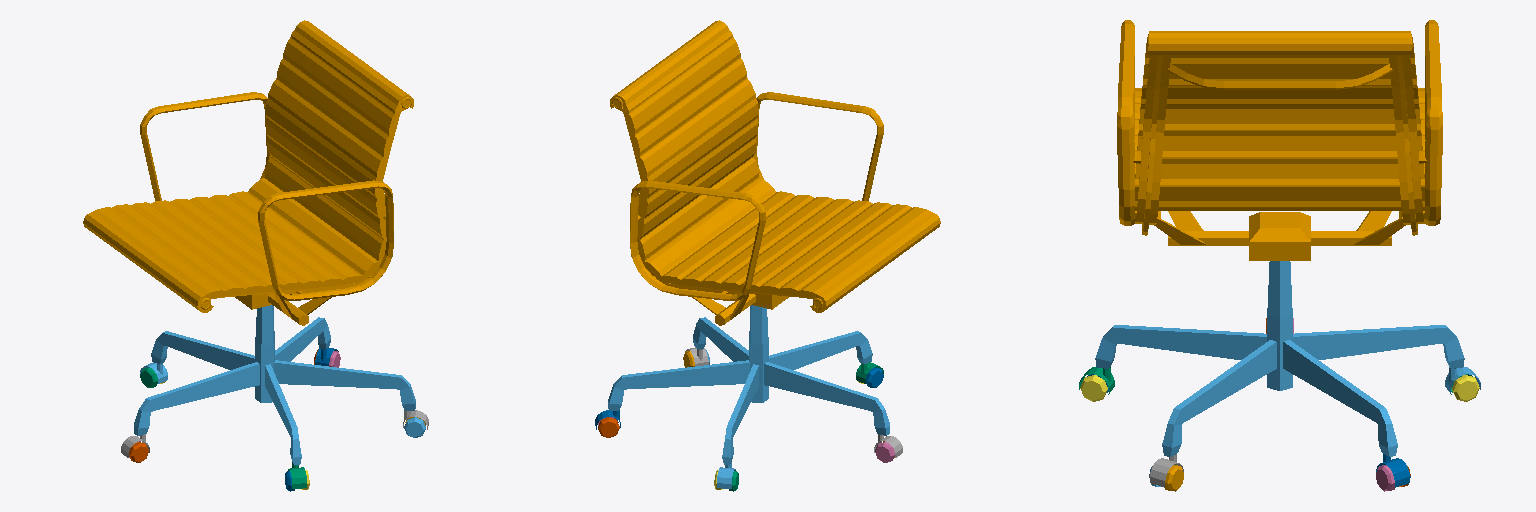
The robot description file, URDF, robot "partnet_a7d178cd0dc051f25fceaa39a8353bde":
<?xml version="1.0" encoding="utf-8"?>
<robot name="partnet_a7d178cd0dc051f25fceaa39a8353bde">
 <link name="base"/>
 <link name="link_0">
  <visual name="caster_yoke-36">
   <origin xyz="0.5275249136431934 0 -0.19504283052343616"/>
   <geometry>
    <mesh filename="textured_objs/original-30.obj"/>
   </geometry>
  </visual>
  <collision>
   <geometry>
    <mesh filename="cvx_objs/link_0.obj"/>
   </geometry>
  </collision>
 </link>
 <joint name="joint_0" type="continuous">
  <origin xyz="-0.5275249136431934 0 0.19504283052343616"/>
  <axis xyz="0 1 0"/>
  <child link="link_0"/>
  <parent link="link_16"/>
 </joint>
 <link name="link_1">
  <visual name="wheel-37">
   <origin xyz="0.5648793505871499 0.747897 -0.18354651899587884"/>
   <geometry>
    <mesh filename="textured_objs/original-28.obj"/>
   </geometry>
  </visual>
  <collision>
   <geometry>
    <mesh filename="cvx_objs/link_1.obj"/>
   </geometry>
  </collision>
 </link>
 <joint name="joint_1" type="continuous">
  <origin xyz="-0.03735443694395646 -0.747897 -0.011496311527557312"/>
  <axis xyz="0.3090262594571722 0 0.9510535058375572"/>
  <child link="link_1"/>
  <parent link="link_0"/>
 </joint>
 <link name="link_2">
  <visual name="wheel-38">
   <origin xyz="0.5648793505871499 0.747897 -0.18354651899587884"/>
   <geometry>
    <mesh filename="textured_objs/original-29.obj"/>
   </geometry>
  </visual>
  <collision>
   <geometry>
    <mesh filename="cvx_objs/link_2.obj"/>
   </geometry>
  </collision>
 </link>
 <joint name="joint_2" type="continuous">
  <origin xyz="-0.03735443694395646 -0.747897 -0.011496311527557312"/>
  <axis xyz="0.3090262594571722 0 0.9510535058375572"/>
  <child link="link_2"/>
  <parent link="link_0"/>
 </joint>
 <link name="link_3">
  <visual name="caster_yoke-33">
   <origin xyz="0.32790481014044826 0 0.41932196992926624"/>
   <geometry>
    <mesh filename="textured_objs/original-24.obj"/>
   </geometry>
  </visual>
  <collision>
   <geometry>
    <mesh filename="cvx_objs/link_3.obj"/>
   </geometry>
  </collision>
 </link>
 <joint name="joint_3" type="continuous">
  <origin xyz="-0.32790481014044826 0 -0.41932196992926624"/>
  <axis xyz="0 1 0"/>
  <child link="link_3"/>
  <parent link="link_16"/>
 </joint>
 <link name="link_4">
  <visual name="wheel-34">
   <origin xyz="0.33148533227517596 0.747897 0.45624220529990833"/>
   <geometry>
    <mesh filename="textured_objs/original-22.obj"/>
   </geometry>
  </visual>
  <collision>
   <geometry>
    <mesh filename="cvx_objs/link_4.obj"/>
   </geometry>
  </collision>
 </link>
 <joint name="joint_4" type="continuous">
  <origin xyz="-0.003580522134727704 -0.747897 -0.036920235370642096"/>
  <axis xyz="0.8090119625767526 0 -0.5877921779061978"/>
  <child link="link_4"/>
  <parent link="link_3"/>
 </joint>
 <link name="link_5">
  <visual name="wheel-35">
   <origin xyz="0.33148533227517596 0.747897 0.45624220529990833"/>
   <geometry>
    <mesh filename="textured_objs/original-23.obj"/>
   </geometry>
  </visual>
  <collision>
   <geometry>
    <mesh filename="cvx_objs/link_5.obj"/>
   </geometry>
  </collision>
 </link>
 <joint name="joint_5" type="continuous">
  <origin xyz="-0.003580522134727704 -0.747897 -0.036920235370642096"/>
  <axis xyz="0.8090119625767526 0 -0.5877921779061978"/>
  <child link="link_5"/>
  <parent link="link_3"/>
 </joint>
 <link name="link_6">
  <visual name="caster_yoke-30">
   <origin xyz="-0.31807681014044825 0 0.41932096992926626"/>
   <geometry>
    <mesh filename="textured_objs/original-18.obj"/>
   </geometry>
  </visual>
  <collision>
   <geometry>
    <mesh filename="cvx_objs/link_6.obj"/>
   </geometry>
  </collision>
 </link>
 <joint name="joint_6" type="continuous">
  <origin xyz="0.31807681014044825 0 -0.41932096992926626"/>
  <axis xyz="0 1 0"/>
  <child link="link_6"/>
  <parent link="link_16"/>
 </joint>
 <link name="link_7">
  <visual name="wheel-31">
   <origin xyz="-0.3280738453065155 0.747897 0.4515790357847576"/>
   <geometry>
    <mesh filename="textured_objs/original-16.obj"/>
   </geometry>
  </visual>
  <collision>
   <geometry>
    <mesh filename="cvx_objs/link_7.obj"/>
   </geometry>
  </collision>
 </link>
 <joint name="joint_7" type="continuous">
  <origin xyz="0.009997035166067259 -0.747897 -0.03225806585549135"/>
  <axis xyz="-0.8090319278417126 0 -0.5877646975897088"/>
  <child link="link_7"/>
  <parent link="link_6"/>
 </joint>
 <link name="link_8">
  <visual name="wheel-32">
   <origin xyz="-0.3280738453065155 0.747897 0.4515790357847576"/>
   <geometry>
    <mesh filename="textured_objs/original-17.obj"/>
   </geometry>
  </visual>
  <collision>
   <geometry>
    <mesh filename="cvx_objs/link_8.obj"/>
   </geometry>
  </collision>
 </link>
 <joint name="joint_8" type="continuous">
  <origin xyz="0.009997035166067259 -0.747897 -0.03225806585549135"/>
  <axis xyz="-0.8090319278417126 0 -0.5877646975897088"/>
  <child link="link_8"/>
  <parent link="link_6"/>
 </joint>
 <link name="link_9">
  <visual name="caster_yoke-27">
   <origin xyz="-0.517695099206153 0 -0.19504419469360426"/>
   <geometry>
    <mesh filename="textured_objs/original-12.obj"/>
   </geometry>
  </visual>
  <collision>
   <geometry>
    <mesh filename="cvx_objs/link_9.obj"/>
   </geometry>
  </collision>
 </link>
 <joint name="joint_9" type="continuous">
  <origin xyz="0.517695099206153 0 0.19504419469360426"/>
  <axis xyz="0 1 0"/>
  <child link="link_9"/>
  <parent link="link_16"/>
 </joint>
 <link name="link_10">
  <visual name="wheel-28">
   <origin xyz="-0.5559969652804945 0.747897 -0.1806308681688765"/>
   <geometry>
    <mesh filename="textured_objs/original-10.obj"/>
   </geometry>
  </visual>
  <collision>
   <geometry>
    <mesh filename="cvx_objs/link_10.obj"/>
   </geometry>
  </collision>
 </link>
 <joint name="joint_10" type="continuous">
  <origin xyz="0.038301866074341495 -0.747897 -0.014413326524727765"/>
  <axis xyz="0.30898063022309663 0 -0.9510683309557406"/>
  <child link="link_10"/>
  <parent link="link_9"/>
 </joint>
 <link name="link_11">
  <visual name="wheel-29">
   <origin xyz="-0.5559969652804945 0.747897 -0.1806308681688765"/>
   <geometry>
    <mesh filename="textured_objs/original-11.obj"/>
   </geometry>
  </visual>
  <collision>
   <geometry>
    <mesh filename="cvx_objs/link_11.obj"/>
   </geometry>
  </collision>
 </link>
 <joint name="joint_11" type="continuous">
  <origin xyz="0.038301866074341495 -0.747897 -0.014413326524727765"/>
  <axis xyz="0.30898063022309663 0 -0.9510683309557406"/>
  <child link="link_11"/>
  <parent link="link_9"/>
 </joint>
 <link name="link_12">
  <visual name="wheel-24">
   <origin xyz="0 0.747897 -0.606715"/>
   <geometry>
    <mesh filename="textured_objs/original-4.obj"/>
   </geometry>
  </visual>
  <collision>
   <geometry>
    <mesh filename="cvx_objs/link_12.obj"/>
   </geometry>
  </collision>
 </link>
 <joint name="joint_12" type="continuous">
  <origin xyz="0.0049155 -0.747897 0.03197300000000003"/>
  <axis xyz="1 0 0"/>
  <child link="link_12"/>
  <parent link="link_14"/>
 </joint>
 <link name="link_13">
  <visual name="wheel-25">
   <origin xyz="0 0.747897 -0.606715"/>
   <geometry>
    <mesh filename="textured_objs/original-5.obj"/>
   </geometry>
  </visual>
  <collision>
   <geometry>
    <mesh filename="cvx_objs/link_13.obj"/>
   </geometry>
  </collision>
 </link>
 <joint name="joint_13" type="continuous">
  <origin xyz="0.0049155 -0.747897 0.03197300000000003"/>
  <axis xyz="1 0 0"/>
  <child link="link_13"/>
  <parent link="link_14"/>
 </joint>
 <link name="link_14">
  <visual name="caster_yoke-26">
   <origin xyz="0.0049155 0 -0.574742"/>
   <geometry>
    <mesh filename="textured_objs/original-6.obj"/>
   </geometry>
  </visual>
  <collision>
   <geometry>
    <mesh filename="cvx_objs/link_14.obj"/>
   </geometry>
  </collision>
 </link>
 <joint name="joint_14" type="continuous">
  <origin xyz="-0.0049155 0 0.574742"/>
  <axis xyz="0 1 0"/>
  <child link="link_14"/>
  <parent link="link_16"/>
 </joint>
 <link name="link_15">
  <visual name="back_soft_surface-60">
   <origin xyz="0.004914500000000002 0 -0.026290994850135637"/>
   <geometry>
    <mesh filename="textured_objs/new-6.obj"/>
   </geometry>
  </visual>
  <visual name="back_soft_surface-60">
   <origin xyz="0.004914500000000002 0 -0.026290994850135637"/>
   <geometry>
    <mesh filename="textured_objs/original-56.obj"/>
   </geometry>
  </visual>
  <visual name="back_soft_surface-60">
   <origin xyz="0.004914500000000002 0 -0.026290994850135637"/>
   <geometry>
    <mesh filename="textured_objs/original-43.obj"/>
   </geometry>
  </visual>
  <visual name="back_frame_horizontal_bar-57">
   <origin xyz="0.004914500000000002 0 -0.026290994850135637"/>
   <geometry>
    <mesh filename="textured_objs/new-4.obj"/>
   </geometry>
  </visual>
  <visual name="back_frame_vertical_bar-58">
   <origin xyz="0.004914500000000002 0 -0.026290994850135637"/>
   <geometry>
    <mesh filename="textured_objs/new-2.obj"/>
   </geometry>
  </visual>
  <visual name="back_frame_vertical_bar-59">
   <origin xyz="0.004914500000000002 0 -0.026290994850135637"/>
   <geometry>
    <mesh filename="textured_objs/new-3.obj"/>
   </geometry>
  </visual>
  <visual name="arm_holistic_frame-48">
   <origin xyz="0.004914500000000002 0 -0.026290994850135637"/>
   <geometry>
    <mesh filename="textured_objs/original-38.obj"/>
   </geometry>
  </visual>
  <visual name="arm_connector-49">
   <origin xyz="0.004914500000000002 0 -0.026290994850135637"/>
   <geometry>
    <mesh filename="textured_objs/original-37.obj"/>
   </geometry>
  </visual>
  <visual name="arm_connector-50">
   <origin xyz="0.004914500000000002 0 -0.026290994850135637"/>
   <geometry>
    <mesh filename="textured_objs/original-35.obj"/>
   </geometry>
  </visual>
  <visual name="arm_connector-51">
   <origin xyz="0.004914500000000002 0 -0.026290994850135637"/>
   <geometry>
    <mesh filename="textured_objs/original-36.obj"/>
   </geometry>
  </visual>
  <visual name="arm_holistic_frame-44">
   <origin xyz="0.004914500000000002 0 -0.026290994850135637"/>
   <geometry>
    <mesh filename="textured_objs/original-51.obj"/>
   </geometry>
  </visual>
  <visual name="arm_connector-45">
   <origin xyz="0.004914500000000002 0 -0.026290994850135637"/>
   <geometry>
    <mesh filename="textured_objs/original-49.obj"/>
   </geometry>
  </visual>
  <visual name="arm_connector-46">
   <origin xyz="0.004914500000000002 0 -0.026290994850135637"/>
   <geometry>
    <mesh filename="textured_objs/original-48.obj"/>
   </geometry>
  </visual>
  <visual name="arm_connector-47">
   <origin xyz="0.004914500000000002 0 -0.026290994850135637"/>
   <geometry>
    <mesh filename="textured_objs/original-50.obj"/>
   </geometry>
  </visual>
  <visual name="seat_hard_surface-41">
   <origin xyz="0.004914500000000002 0 -0.026290994850135637"/>
   <geometry>
    <mesh filename="textured_objs/new-5.obj"/>
   </geometry>
  </visual>
  <visual name="seat_hard_surface-41">
   <origin xyz="0.004914500000000002 0 -0.026290994850135637"/>
   <geometry>
    <mesh filename="textured_objs/original-54.obj"/>
   </geometry>
  </visual>
  <visual name="seat_hard_surface-41">
   <origin xyz="0.004914500000000002 0 -0.026290994850135637"/>
   <geometry>
    <mesh filename="textured_objs/original-41.obj"/>
   </geometry>
  </visual>
  <visual name="seat_frame_vertical_bar-42">
   <origin xyz="0.004914500000000002 0 -0.026290994850135637"/>
   <geometry>
    <mesh filename="textured_objs/new-0.obj"/>
   </geometry>
  </visual>
  <visual name="seat_frame_vertical_bar-43">
   <origin xyz="0.004914500000000002 0 -0.026290994850135637"/>
   <geometry>
    <mesh filename="textured_objs/new-1.obj"/>
   </geometry>
  </visual>
  <visual name="seat_connector-11">
   <origin xyz="0.004914500000000002 0 -0.026290994850135637"/>
   <geometry>
    <mesh filename="textured_objs/original-39.obj"/>
   </geometry>
  </visual>
  <visual name="seat_connector-11">
   <origin xyz="0.004914500000000002 0 -0.026290994850135637"/>
   <geometry>
    <mesh filename="textured_objs/original-52.obj"/>
   </geometry>
  </visual>
  <collision>
   <geometry>
    <mesh filename="cvx_objs/link_15.obj"/>
   </geometry>
  </collision>
 </link>
 <joint name="joint_15" type="continuous">
  <origin xyz="0.0 0 0.0"/>
  <axis xyz="0 1 0"/>
  <child link="link_15"/>
  <parent link="link_15_helper"/>
 </joint>
 <link name="link_16">
  <visual name="central_support-9">
   <origin xyz="0 0 0"/>
   <geometry>
    <mesh filename="textured_objs/original-32.obj"/>
   </geometry>
  </visual>
  <visual name="leg-12">
   <origin xyz="0 0 0"/>
   <geometry>
    <mesh filename="textured_objs/original-19.obj"/>
   </geometry>
  </visual>
  <visual name="leg-13">
   <origin xyz="0 0 0"/>
   <geometry>
    <mesh filename="textured_objs/original-25.obj"/>
   </geometry>
  </visual>
  <visual name="leg-14">
   <origin xyz="0 0 0"/>
   <geometry>
    <mesh filename="textured_objs/original-13.obj"/>
   </geometry>
  </visual>
  <visual name="leg-15">
   <origin xyz="0 0 0"/>
   <geometry>
    <mesh filename="textured_objs/original-7.obj"/>
   </geometry>
  </visual>
  <visual name="leg-16">
   <origin xyz="0 0 0"/>
   <geometry>
    <mesh filename="textured_objs/original-31.obj"/>
   </geometry>
  </visual>
  <collision>
   <geometry>
    <mesh filename="cvx_objs/link_16.obj"/>
   </geometry>
  </collision>
 </link>
 <joint name="joint_16" type="fixed">
  <origin rpy="1.570796326794897 0 -1.570796326794897" xyz="0 0 0"/>
  <child link="link_16"/>
  <parent link="base"/>
 </joint>
 <link name="link_15_helper"/>
 <joint name="joint_17" type="prismatic">
  <origin xyz="-0.004914500000000002 0 0.026290994850135637"/>
  <axis xyz="0 -1 0"/>
  <child link="link_15_helper"/>
  <parent link="link_16"/>
  <limit lower="0" upper="0.1"/>
 </joint>
</robot>

--- Render facts (derived) ---
3 views of the same robot in one strip: view 1: azimuth 30°, elevation 25°; view 2: azimuth 150°, elevation 25°; view 3: azimuth 270°, elevation 25° (orthographic).
Model partnet_a7d178cd0dc051f25fceaa39a8353bde with 19 links and 18 joints (16 continuous, 1 prismatic, 1 fixed), rooted at base, posed all joints at 0.
Visible links, largest first — view 1: link_15, link_16; view 2: link_15, link_16; view 3: link_15, link_16, link_2, link_10.
Boxes of the visible links, <box> form: link_15: <box>83,20,413,325</box>; link_16: <box>134,305,415,465</box>; link_15: <box>610,20,940,325</box>; link_16: <box>608,305,889,465</box>; link_15: <box>1117,20,1442,260</box>; link_16: <box>1095,261,1464,456</box>; link_2: <box>1452,375,1479,401</box>; link_10: <box>1080,375,1107,401</box>.
Size in the robot's own frame: 1.16 by 1.22 by 1.48 metres.
Meshes: 42 distinct files referenced, 42 mesh visuals loaded (42 OBJ).
